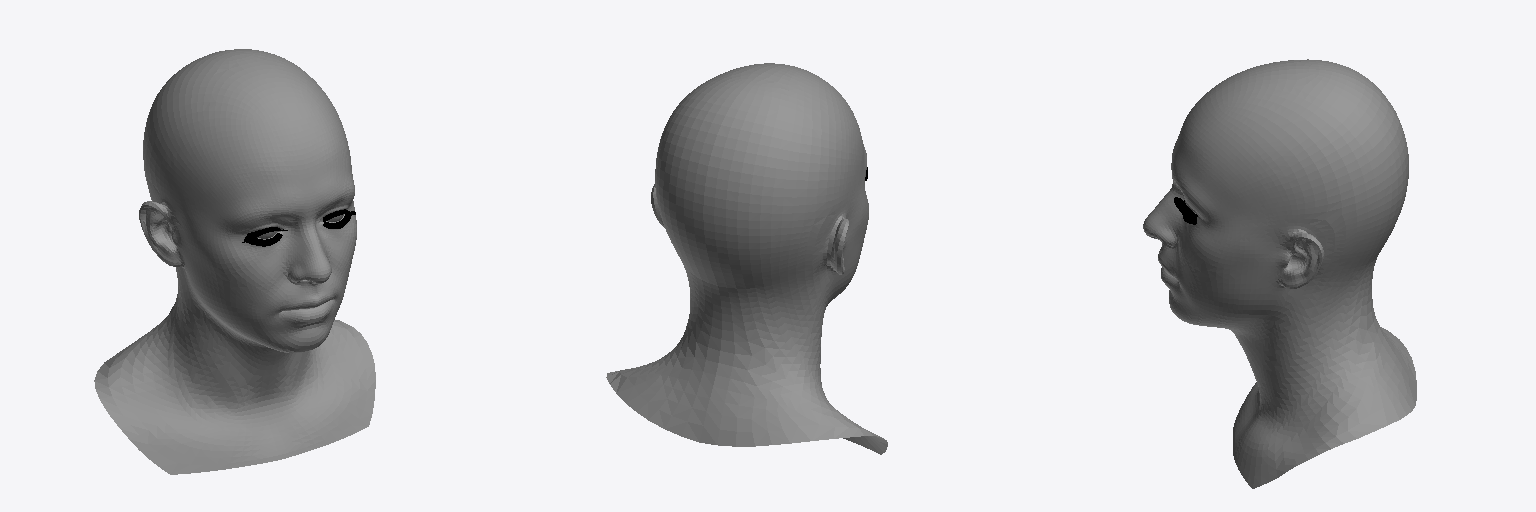
Rendered from identity038.obj.
The picture shows the model from 3 angles: view 1: azimuth 30°, elevation 25°; view 2: azimuth 150°, elevation 25°; view 3: azimuth 270°, elevation 25°; orthographic projection.
Size of the model in its own units: 24.91 by 33.78 by 22.4.